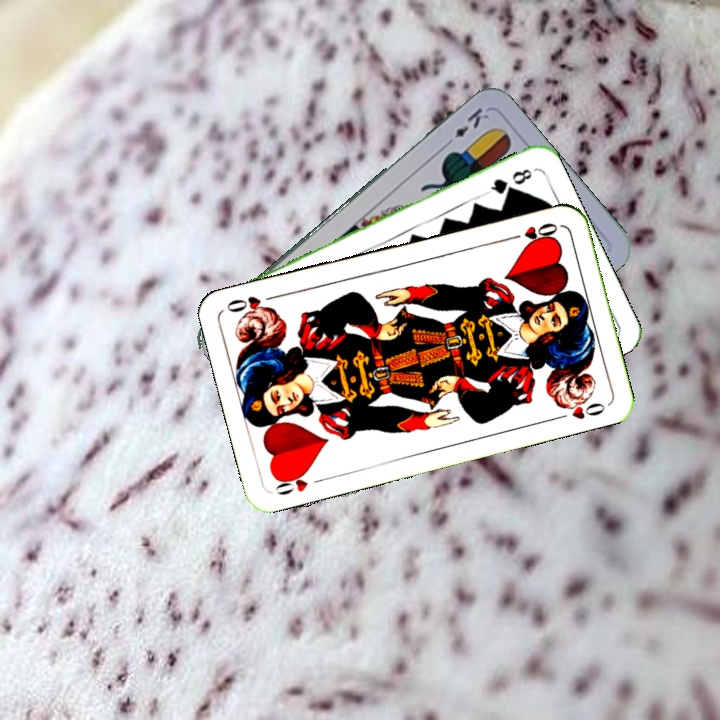EK: (440, 103, 492, 150)
G8: (481, 164, 535, 197)
HO: (271, 466, 328, 498), (504, 219, 560, 245)
